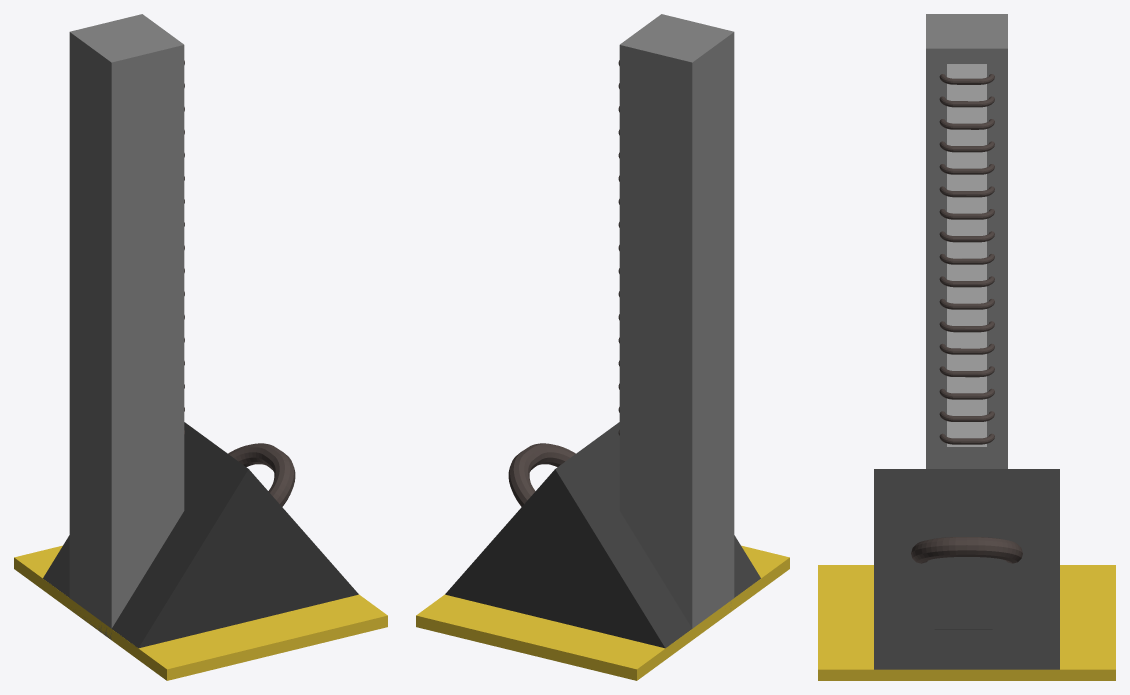
File: ChainBase.fbx
The picture shows the model from 3 angles, left to right: view 1: azimuth 30°, elevation 25°; view 2: azimuth 150°, elevation 25°; view 3: azimuth 270°, elevation 25°; orthographic projection. The views are drawn at different scales.
Parts seen in each view (by area): view 1: LightColumn, BaseMount, Base, ChainMount; view 2: LightColumn, BaseMount, Base, ChainMount; view 3: BaseMount, LightColumn, Base, LightStrip, LightLoops, ChainMount.
Part boxes in pixels (bbox=[...]): LightColumn: bbox=[69, 14, 184, 639]; BaseMount: bbox=[43, 422, 358, 648]; Base: bbox=[14, 545, 387, 680]; ChainMount: bbox=[228, 443, 295, 506]; LightColumn: bbox=[619, 14, 734, 628]; BaseMount: bbox=[445, 422, 760, 648]; Base: bbox=[416, 545, 789, 680]; ChainMount: bbox=[508, 443, 575, 506]; BaseMount: bbox=[874, 469, 1059, 669]; LightColumn: bbox=[926, 14, 1007, 468]; Base: bbox=[818, 565, 1115, 680]; LightStrip: bbox=[947, 64, 986, 446]; LightLoops: bbox=[939, 74, 994, 444]; ChainMount: bbox=[911, 537, 1022, 563].
Size of the model in its own units: 240 by 200 by 500.
